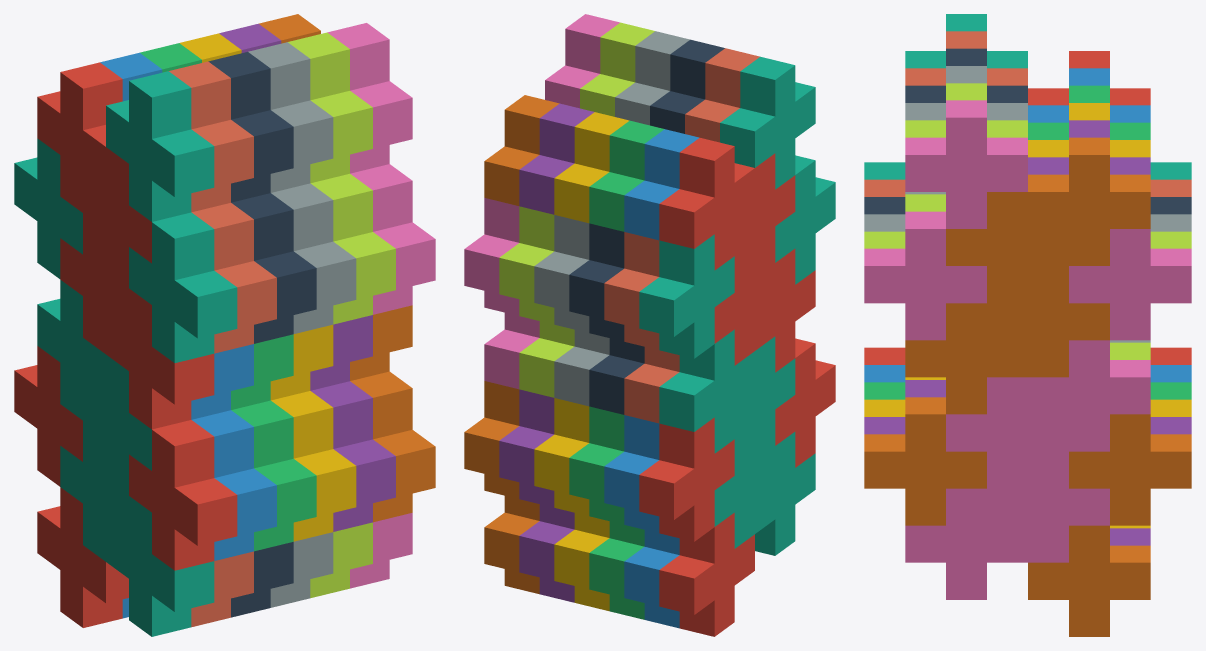
File: tiling.obj
3 views of the same model, side by side, from view 1: azimuth 30°, elevation 25°; view 2: azimuth 150°, elevation 25°; view 3: azimuth 270°, elevation 25° (orthographic). The views are drawn at different scales.
Visible parts, largest first — view 1: copy_67, copy_73, copy_79, copy_25, copy_55, copy_61, copy_13, copy_70, copy_82, copy_76, copy_81, copy_69 (+32 smaller); view 2: copy_25, copy_7, copy_1, copy_67, copy_13, copy_19, copy_55, copy_73, copy_79, copy_29, copy_27, copy_28 (+32 smaller); view 3: copy_30, copy_72, copy_84, copy_78, copy_12, copy_6, copy_18, copy_24, copy_36, copy_42, copy_48, copy_60 (+34 smaller).
Boxes of the visible parts, x1=… form: copy_67: x1=106, y1=71, x2=214, y2=221; copy_73: x1=129, y1=420, x2=237, y2=570; copy_79: x1=129, y1=212, x2=237, y2=362; copy_25: x1=37, y1=62, x2=122, y2=212; copy_55: x1=106, y1=496, x2=214, y2=636; copy_61: x1=106, y1=288, x2=214, y2=429; copy_13: x1=37, y1=487, x2=128, y2=627; copy_70: x1=248, y1=42, x2=333, y2=192; copy_82: x1=271, y1=183, x2=356, y2=333; copy_76: x1=271, y1=391, x2=356, y2=541; copy_81: x1=231, y1=193, x2=316, y2=343; copy_69: x1=208, y1=52, x2=293, y2=202; copy_25: x1=659, y1=138, x2=754, y2=270; copy_7: x1=639, y1=234, x2=734, y2=358; copy_1: x1=639, y1=417, x2=734, y2=541; copy_67: x1=720, y1=56, x2=815, y2=189; copy_13: x1=659, y1=512, x2=754, y2=636; copy_19: x1=659, y1=329, x2=754, y2=453; copy_55: x1=755, y1=432, x2=815, y2=555; copy_73: x1=775, y1=338, x2=835, y2=467; copy_79: x1=775, y1=155, x2=835, y2=284; copy_29: x1=519, y1=103, x2=594, y2=214; copy_27: x1=589, y1=120, x2=664, y2=231; copy_28: x1=554, y1=112, x2=629, y2=223; copy_30: x1=1028, y1=137, x2=1150, y2=265; copy_72: x1=905, y1=100, x2=1027, y2=228; copy_84: x1=864, y1=211, x2=986, y2=340; copy_78: x1=864, y1=397, x2=986, y2=525; copy_12: x1=1069, y1=229, x2=1191, y2=340; copy_6: x1=1069, y1=414, x2=1191, y2=525; copy_18: x1=1028, y1=525, x2=1150, y2=636; copy_24: x1=1028, y1=340, x2=1150, y2=451; copy_36: x1=987, y1=451, x2=1109, y2=562; copy_42: x1=987, y1=266, x2=1109, y2=377; copy_48: x1=946, y1=377, x2=1068, y2=488; copy_60: x1=905, y1=488, x2=1027, y2=599.
Bounding box in the file's own units: 6 × 14 × 8.
